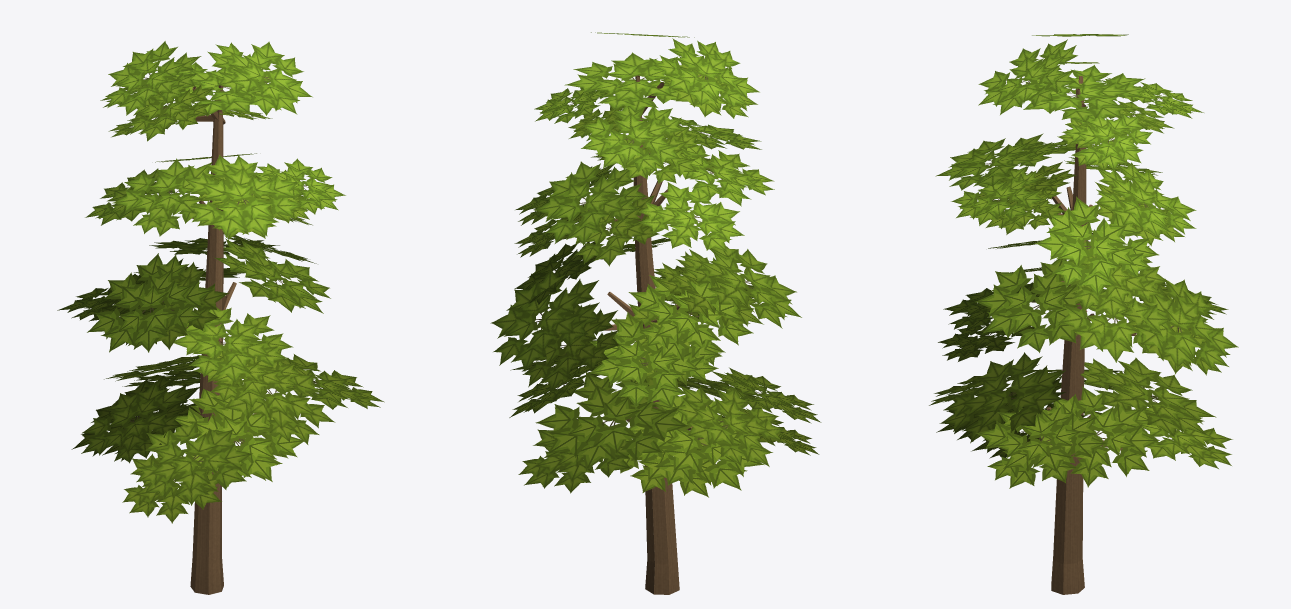
The model's file is maple2_c.glb.
The picture shows the model from 3 angles, left to right: view 1: azimuth 30°, elevation 25°; view 2: azimuth 150°, elevation 25°; view 3: azimuth 270°, elevation 25°; orthographic projection. The views are drawn at different scales.
Parts seen in each view (by area): view 1: maple2_c; view 2: maple2_c; view 3: maple2_c.
Boxes of the visible parts, box(x1,y1,x2,y2) form: maple2_c: box(57, 41, 384, 594); maple2_c: box(490, 32, 821, 594); maple2_c: box(929, 34, 1238, 594).
Bounding box in the file's own units: 3.59 × 5.54 × 3.48.
Materials: 2 (2 with a texture image).
